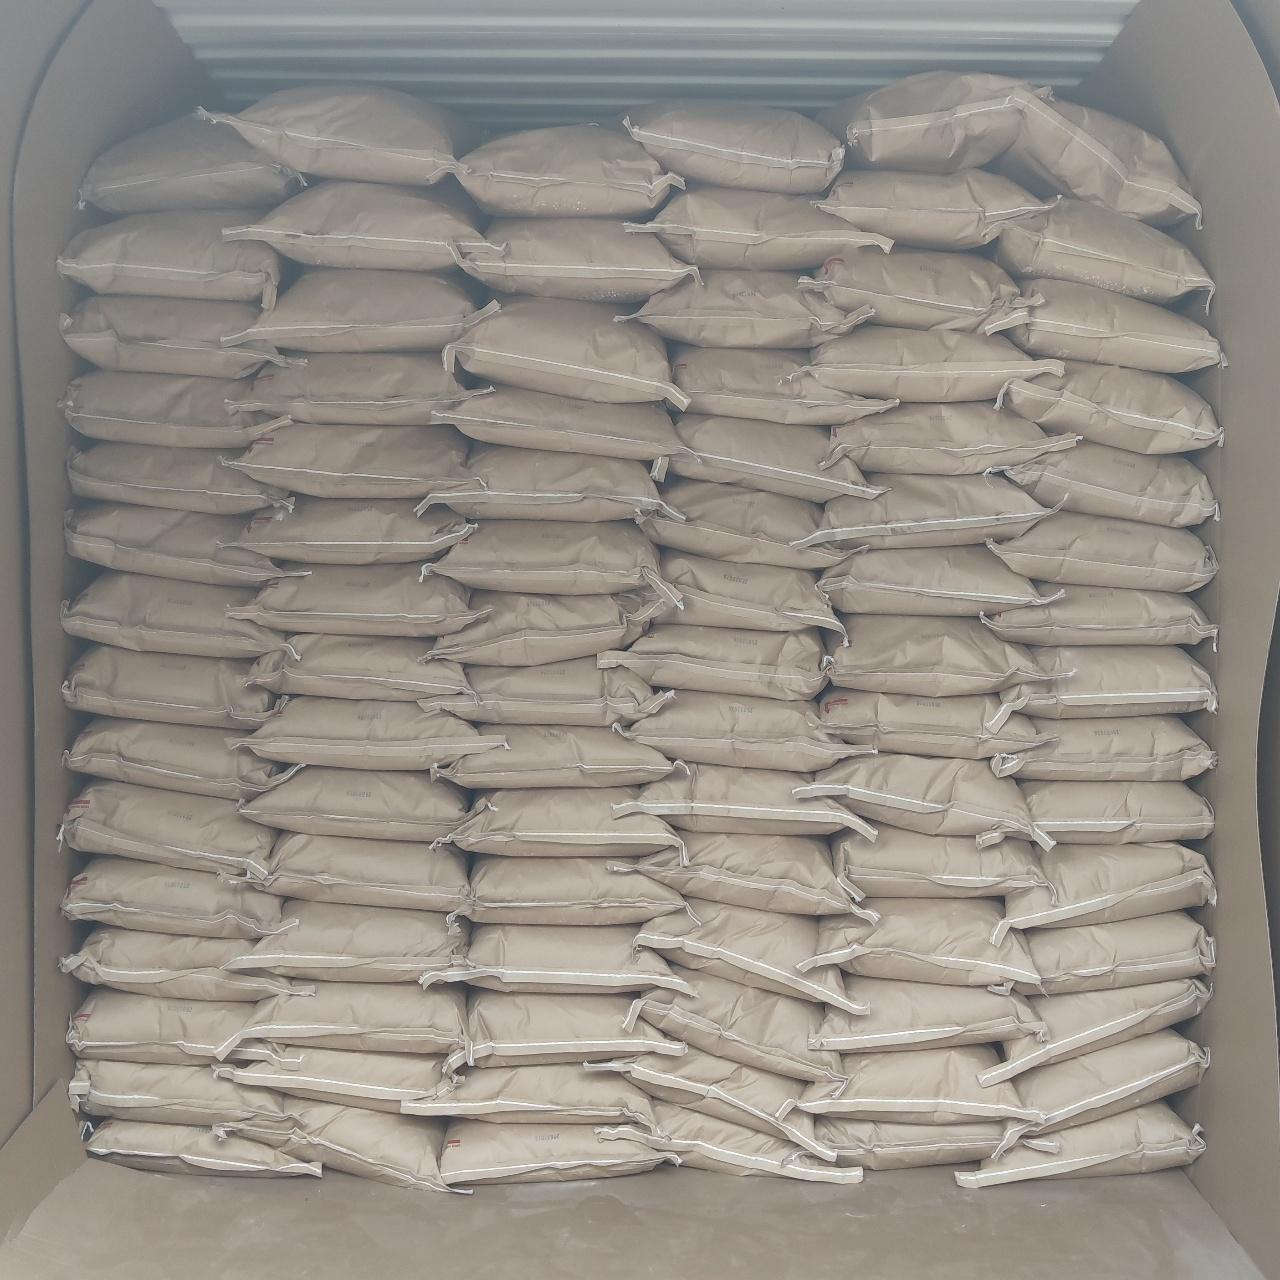sack: (996, 86, 1200, 230), (580, 1048, 830, 1158), (634, 898, 862, 1014), (210, 84, 474, 182), (992, 195, 1214, 309), (628, 968, 842, 1084), (980, 978, 1210, 1084), (988, 842, 1214, 946), (444, 298, 678, 399), (226, 181, 488, 270), (80, 113, 304, 215), (421, 520, 682, 607), (229, 1096, 464, 1192), (802, 754, 1048, 844), (629, 832, 876, 922), (956, 1099, 1204, 1189), (1010, 1028, 1206, 1141), (982, 280, 1223, 372), (595, 1101, 863, 1183), (626, 186, 892, 268), (57, 210, 284, 304), (224, 268, 482, 350), (454, 124, 685, 216), (652, 411, 881, 502), (996, 360, 1220, 452), (57, 779, 275, 874), (821, 72, 1022, 170), (624, 100, 842, 190), (620, 690, 866, 770), (620, 270, 869, 348), (66, 504, 308, 584), (229, 900, 470, 980), (444, 990, 686, 1070), (824, 614, 1064, 694), (462, 218, 694, 300), (617, 764, 874, 838), (636, 481, 858, 566), (433, 384, 685, 459), (62, 570, 286, 654), (992, 442, 1216, 526), (990, 912, 1214, 996), (812, 898, 1036, 982), (64, 716, 294, 798), (62, 924, 316, 998), (64, 644, 286, 728), (229, 832, 470, 910), (420, 924, 692, 992), (983, 510, 1214, 590), (806, 326, 1060, 399), (229, 561, 472, 636), (418, 444, 666, 518), (799, 1046, 1042, 1121), (62, 294, 290, 374), (400, 1063, 653, 1135), (62, 856, 292, 934), (799, 246, 1017, 328), (234, 352, 488, 422), (241, 696, 498, 765), (670, 343, 894, 422), (598, 624, 828, 700), (816, 170, 1046, 246), (60, 368, 286, 445), (808, 474, 1048, 546), (812, 976, 1044, 1051), (832, 402, 1073, 474), (230, 422, 470, 493), (420, 658, 668, 726), (428, 590, 660, 662), (68, 986, 282, 1062), (236, 982, 464, 1054), (240, 768, 470, 838), (816, 688, 1046, 758), (444, 788, 682, 855), (70, 442, 294, 512), (433, 726, 686, 788), (238, 496, 476, 561), (821, 546, 1050, 614), (459, 856, 686, 924), (1000, 648, 1214, 719), (832, 824, 1046, 894), (660, 550, 844, 629), (215, 1046, 442, 1110), (248, 634, 470, 700), (70, 1060, 286, 1126), (980, 584, 1214, 644), (992, 716, 1214, 778), (440, 1121, 666, 1182), (1016, 779, 1214, 846), (86, 1118, 320, 1175), (816, 1118, 1058, 1169)
